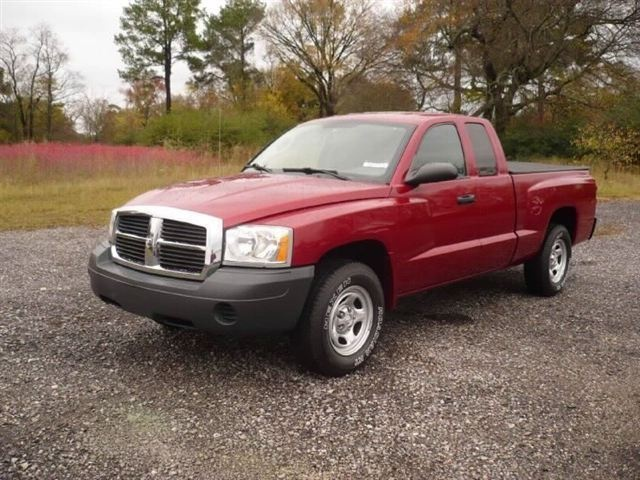Xe_hoi: (84, 109, 599, 378)
